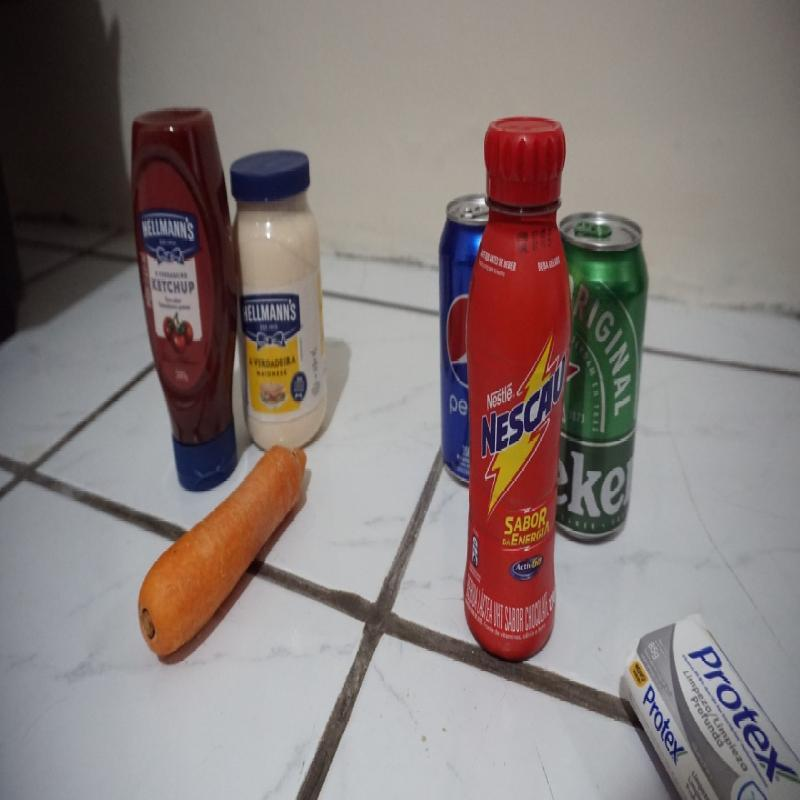Beer can: (567, 213, 644, 545)
Carrot: (122, 446, 310, 657)
Chocolate Milk: (473, 119, 568, 658)
Ketchup: (129, 115, 237, 492)
Mayonnaise: (233, 155, 324, 440)
Soap: (625, 618, 800, 800)
Soda can: (439, 188, 476, 477)
